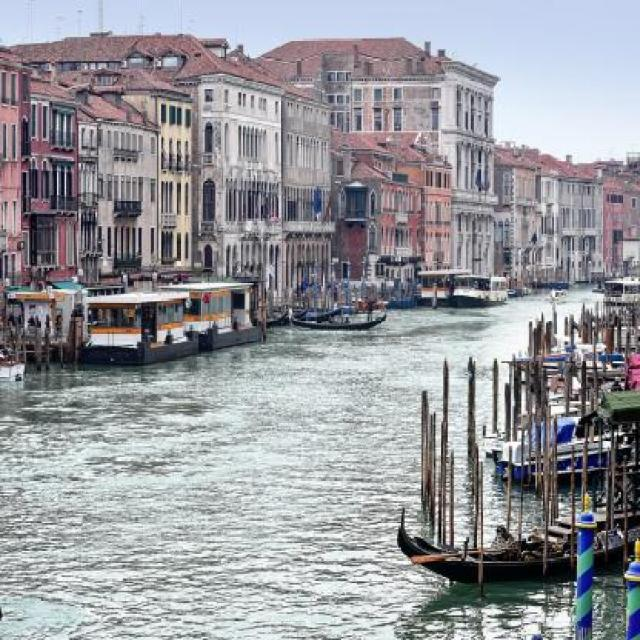ship: (394, 505, 637, 584), (498, 429, 632, 485), (288, 310, 388, 330), (600, 276, 638, 304)
